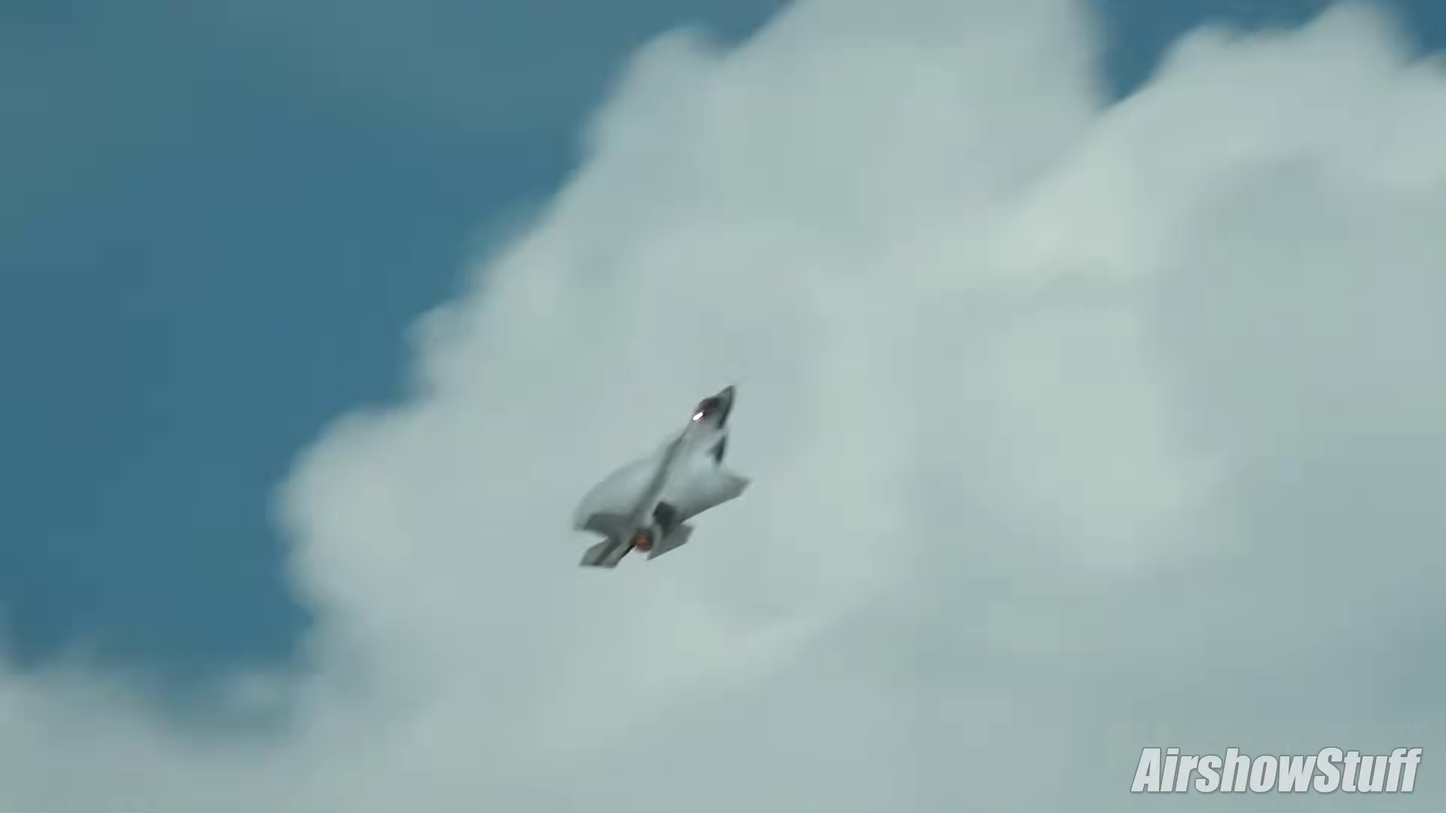F35: (571, 380, 756, 572)
